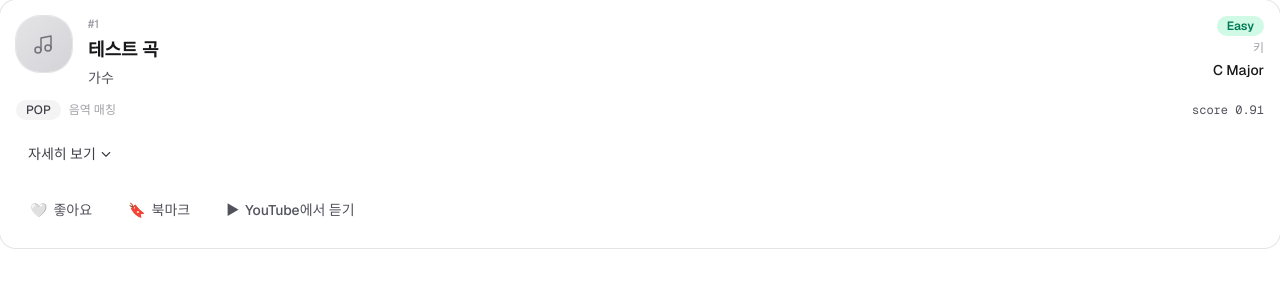
SongCard › 좋아요 토글 (closes #176 + #184) › 재시도 클릭 시 이전 실패 안내가 즉시 사라진다
Click the button with aria-label "테스트 곡 좋아요" at (61, 210), box [16,188,106,232]
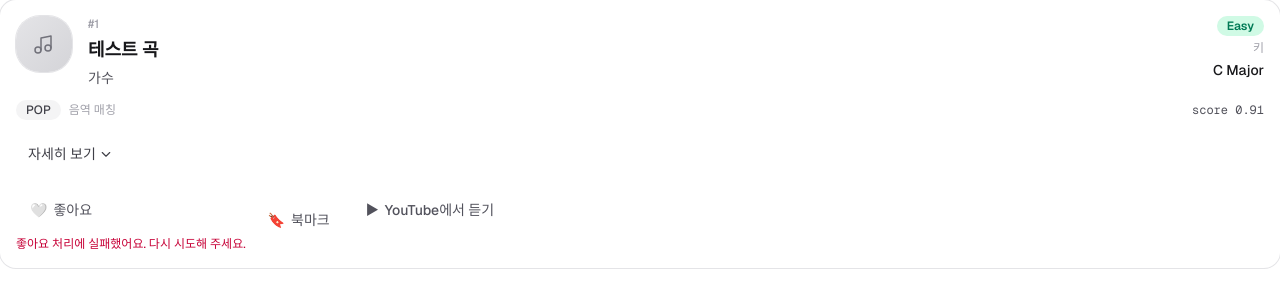
Check: the message "좋아요 처리에 실패했어요. 다시 시도해 주세요." is shown, box [16,236,246,252]
Click the button with aria-label "테스트 곡 좋아요" at (61, 210), box [16,188,106,232]
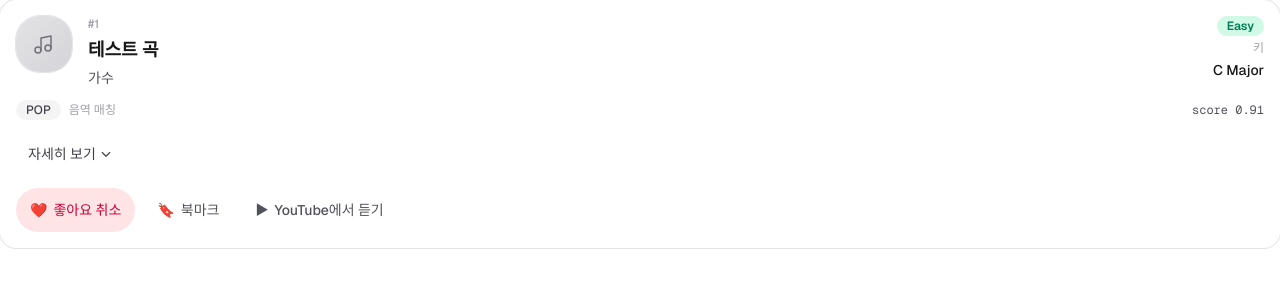
Check: the message "좋아요 처리에 실패했어요. 다시 시도해 주세요." is gone
